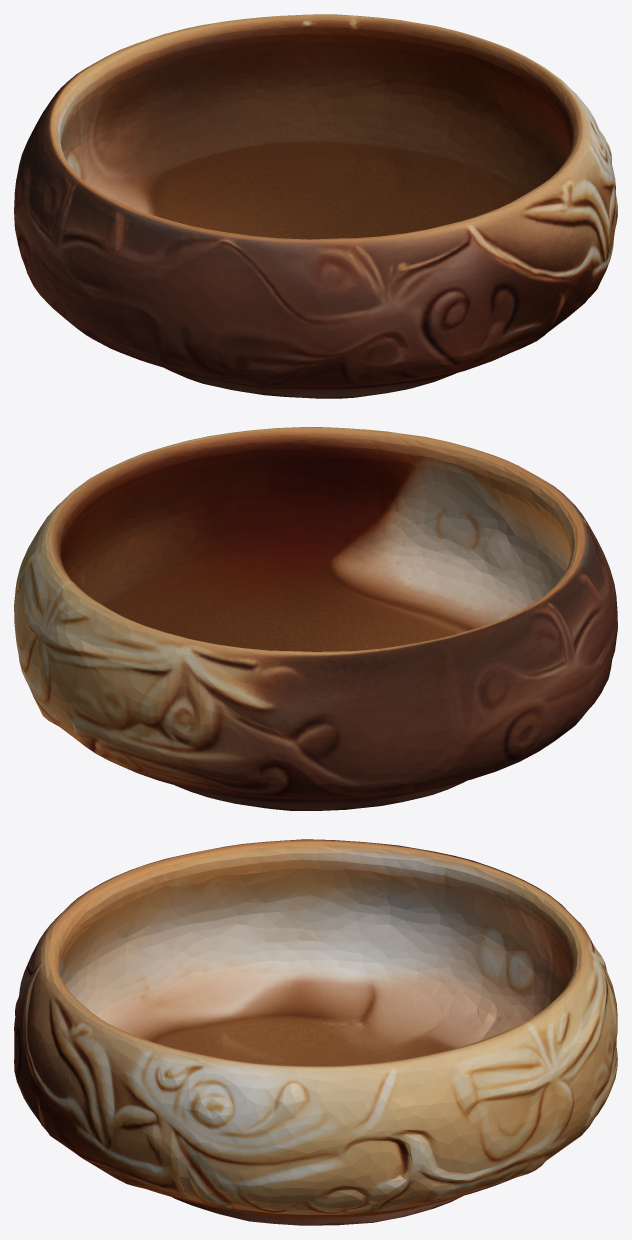
Rendered from handmade-clay-soap-holder-rustic.jpeg.glb.
The picture shows the model from 3 angles, top to bottom: view 1: azimuth 30°, elevation 25°; view 2: azimuth 150°, elevation 25°; view 3: azimuth 270°, elevation 25°; orthographic projection.
Visible parts, largest first — view 1: world; view 2: world; view 3: world.
Boxes of the visible parts, x1,y1,x2,y2 form: world: (14, 14, 617, 398); world: (14, 427, 617, 810); world: (14, 839, 617, 1225).
Size of the model in its own units: 0.9986 by 0.3519 by 0.9979.
1 material, 1 textured.
